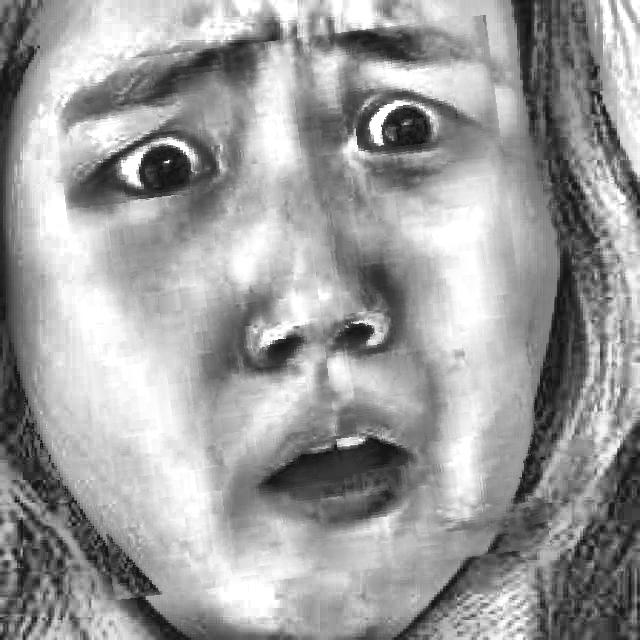fear: (64, 28, 536, 588)
